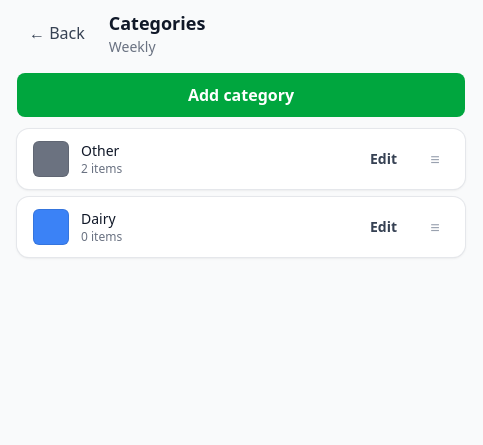
Test: CategoriesPage (docs/TASKS.md → T19) › edits title and color (EDITOR+): PATCH body, optimistic row update, editor closes
Click the button with aria-label "Edit Other" at (383, 159), box top-left (358, 137), bottom-right (409, 181)
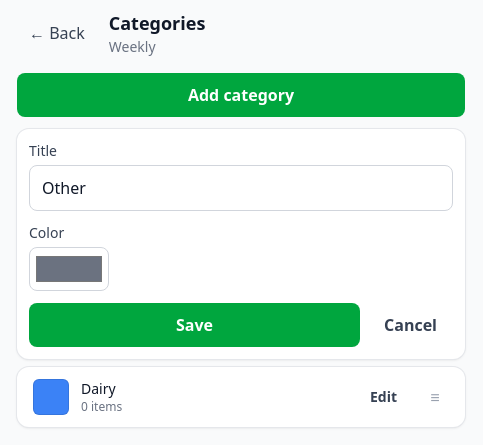
Expected: the form named "Edit Other" is shown, top-left (17, 129), bottom-right (465, 359)
Replace the text in the field labelled "Title" with "Groceries misc" at (241, 188), box top-left (29, 165), bottom-right (453, 211)
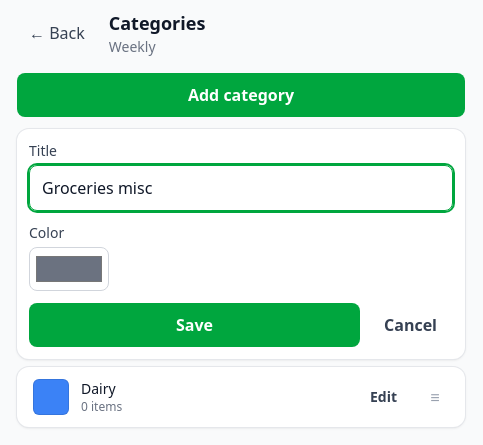
Type "#ff0000" into the colour field labelled "Color" at (69, 269), box top-left (29, 247), bottom-right (109, 291)
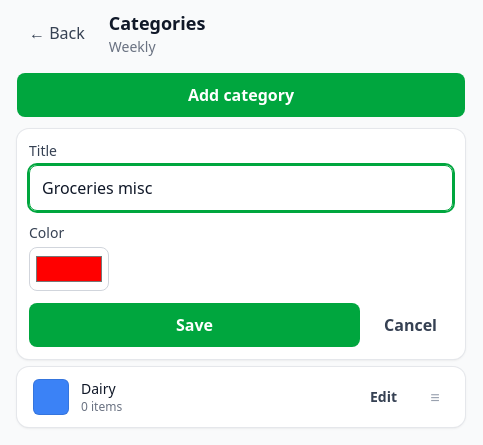
Click the button "Save" at (195, 325), box top-left (29, 303), bottom-right (360, 347)
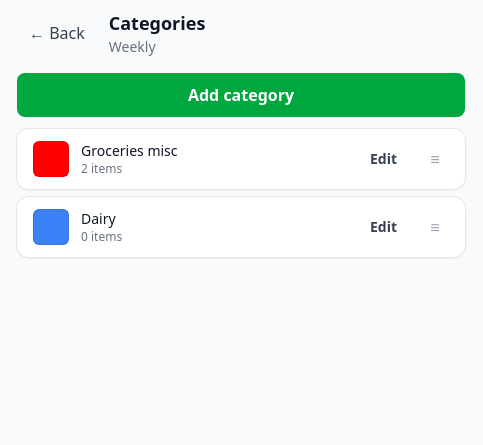
Expected: the text "Groceries misc" is shown, top-left (81, 141), bottom-right (178, 160)
Expected: the button with aria-label "Edit Groceries misc" is shown, top-left (358, 137), bottom-right (409, 181)
